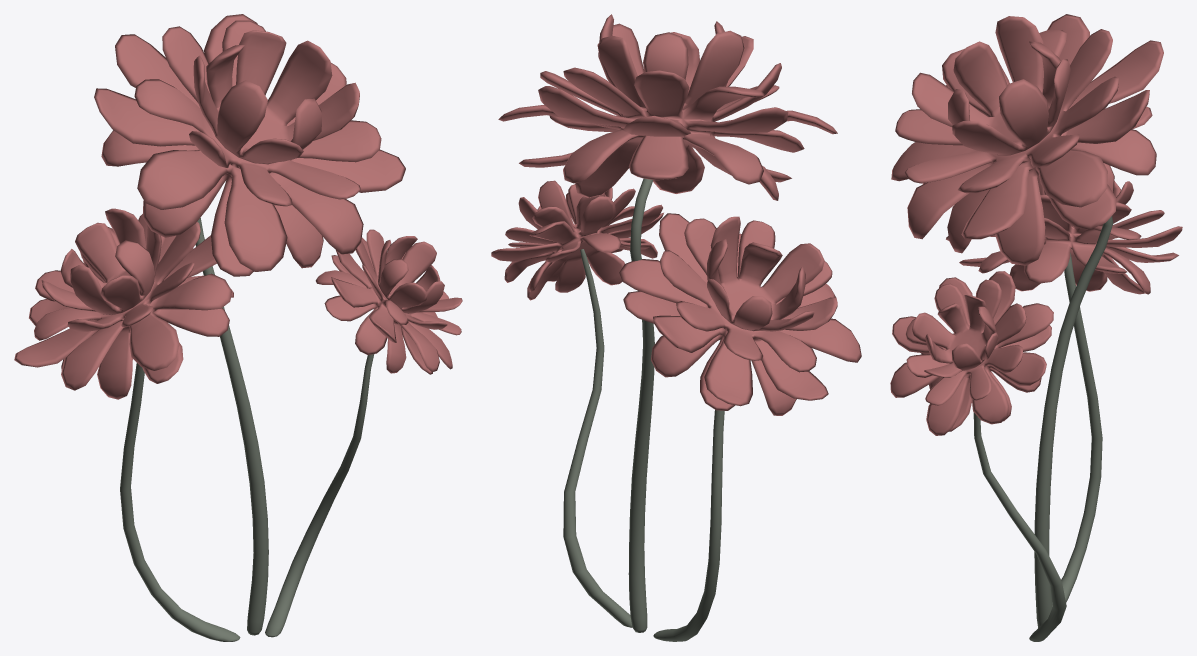
The model's file is flower_set_highpoly.fbx.
3 renders of one model, left to right at view 1: azimuth 30°, elevation 25°; view 2: azimuth 150°, elevation 25°; view 3: azimuth 270°, elevation 25°, orthographic. The views are drawn at different scales.
Parts seen in each view (by area): view 1: flo1, flo2, flo3, pCylinder2, pCylinder3, pCylinder4; view 2: flo2, flo1, flo3, pCylinder2, pCylinder4, pCylinder3; view 3: flo1, flo3, flo2, pCylinder2, pCylinder3, pCylinder4.
Part boxes in pixels (x1=…): flo1: x1=94, y1=14, x2=405, y2=276; flo2: x1=14, y1=208, x2=233, y2=399; flo3: x1=315, y1=229, x2=462, y2=374; pCylinder2: x1=195, y1=218, x2=268, y2=635; pCylinder3: x1=120, y1=363, x2=240, y2=641; pCylinder4: x1=265, y1=354, x2=374, y2=637; flo2: x1=619, y1=213, x2=861, y2=415; flo1: x1=498, y1=14, x2=837, y2=200; flo3: x1=491, y1=180, x2=663, y2=300; pCylinder2: x1=628, y1=178, x2=654, y2=632; pCylinder4: x1=563, y1=249, x2=632, y2=627; pCylinder3: x1=653, y1=410, x2=724, y2=641; flo1: x1=891, y1=14, x2=1163, y2=265; flo3: x1=890, y1=271, x2=1053, y2=435; flo2: x1=946, y1=163, x2=1182, y2=294; pCylinder2: x1=1034, y1=216, x2=1113, y2=627; pCylinder3: x1=1052, y1=253, x2=1102, y2=606; pCylinder4: x1=973, y1=412, x2=1066, y2=641.
Bounding box in the file's own units: 12.65 × 19.57 × 8.85.
